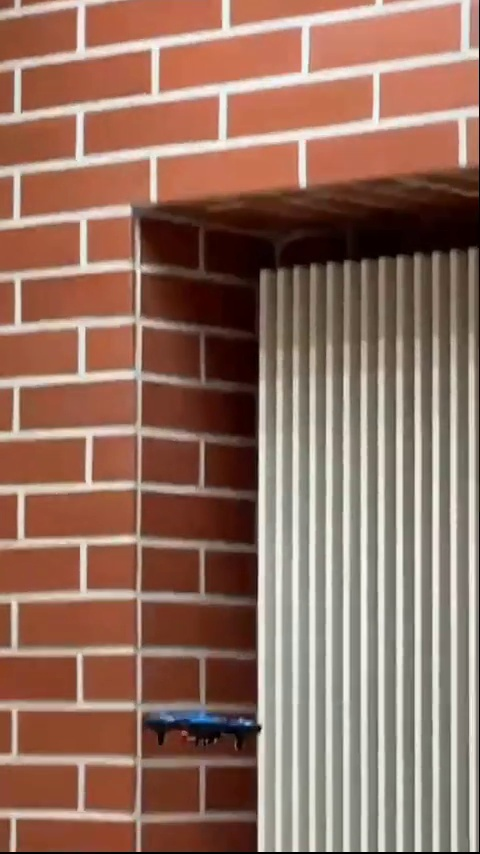drone: (144, 706, 267, 758)
